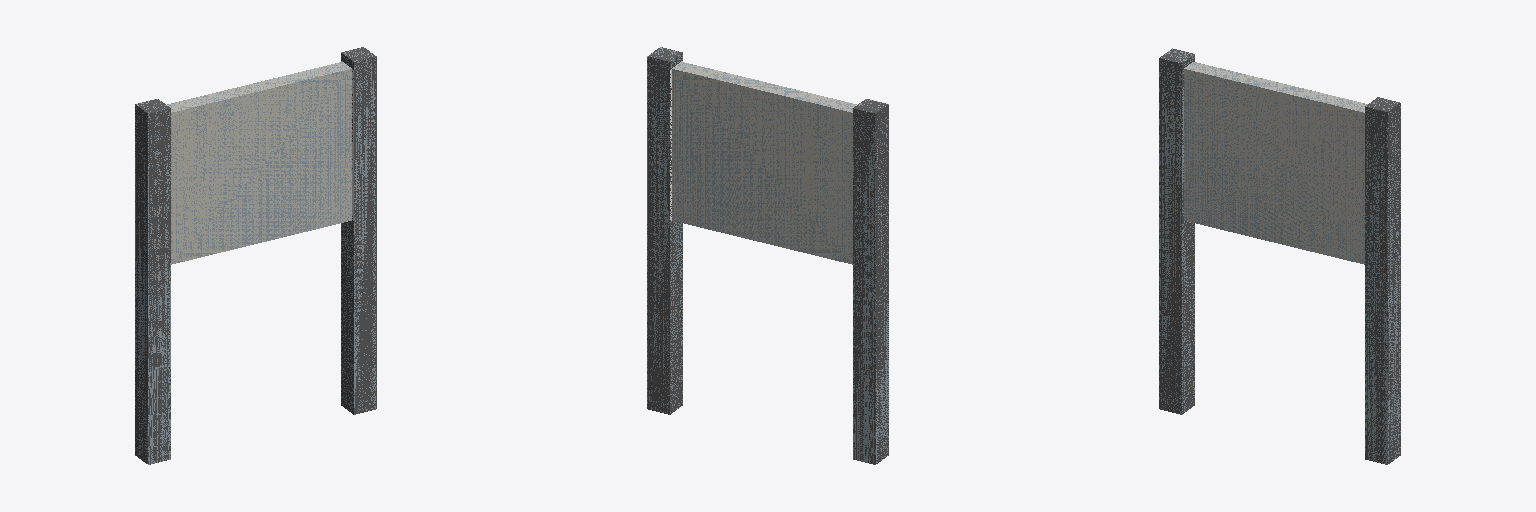
3 views of the same model, side by side, from view 1: azimuth 30°, elevation 25°; view 2: azimuth 150°, elevation 25°; view 3: azimuth 330°, elevation 25° (orthographic).
Visible parts, largest first — view 1: Mesh1 Model; view 2: Mesh1 Model; view 3: Mesh1 Model.
Boxes of the visible parts, box(x1,y1,x2,y2) form: Mesh1 Model: box(135, 47, 376, 464); Mesh1 Model: box(647, 47, 888, 464); Mesh1 Model: box(1159, 48, 1400, 464).
Size of the model in its own units: 1.04 by 1.54 by 0.1035.
Materials: 4 (2 with a texture image).